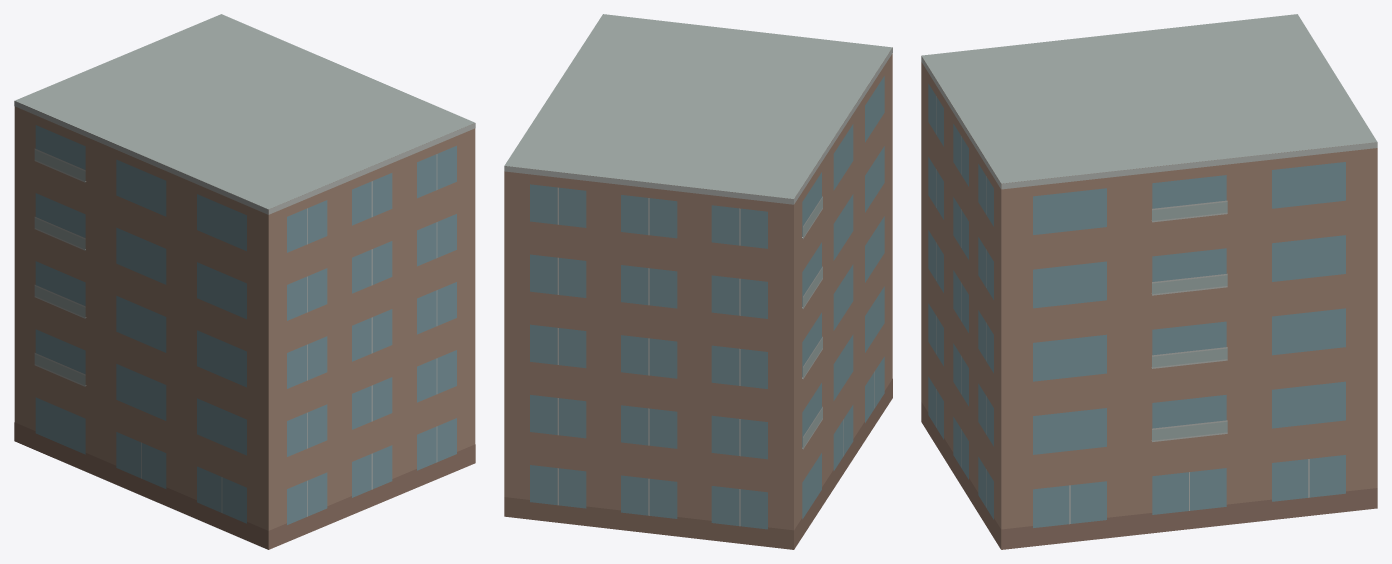
The model's file is survey-upis-32492549.glb.
3 renders of one model, left to right at view 1: azimuth 30°, elevation 25°; view 2: azimuth 150°, elevation 25°; view 3: azimuth 270°, elevation 25°, orthographic. The views are drawn at different scales.
Visible parts, largest first — view 1: survey-upis-32492549.tmp; view 2: survey-upis-32492549.tmp; view 3: survey-upis-32492549.tmp.
Part boxes in pixels (<box>): survey-upis-32492549.tmp: <box>14,14,475,549</box>; survey-upis-32492549.tmp: <box>504,14,892,549</box>; survey-upis-32492549.tmp: <box>921,14,1377,549</box>.
Bounding box in the file's own units: 15.16 × 15.25 × 17.23.
